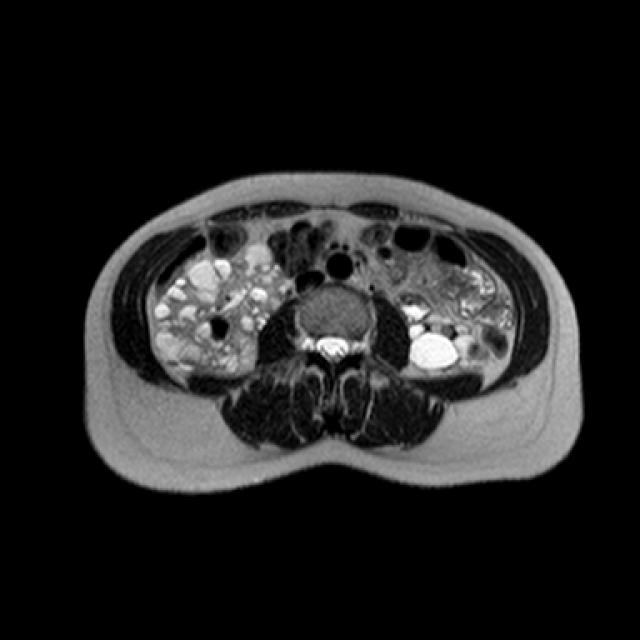sag: (150, 240, 292, 378)
sol: (395, 292, 490, 378)
